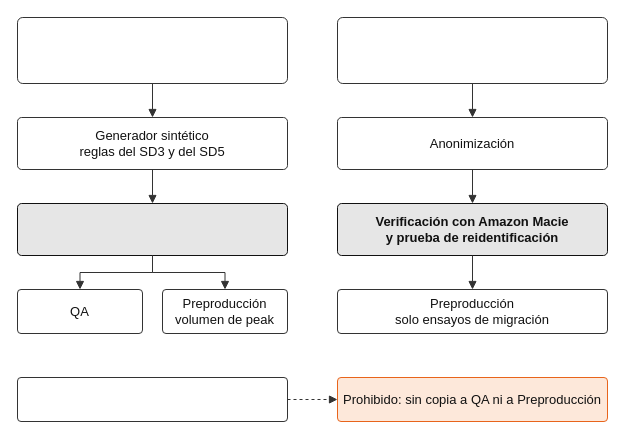
The diagram is 625 pixels wide and 439 high, and some of its shapes have lost their labels. The shapes that lost their labels are listed below. From the top down, each one's centre as x and y in pixels, then its label:
point (152, 50): Volumetría del Caso 14.200 clientes · 8.400 SKU 31.000 pedidos al mes
point (472, 50): Datos históricos del CLIENTE 32,11 GB
point (152, 229): Juegos versionados restituidos antes de cada ciclo
point (152, 399): Producción
